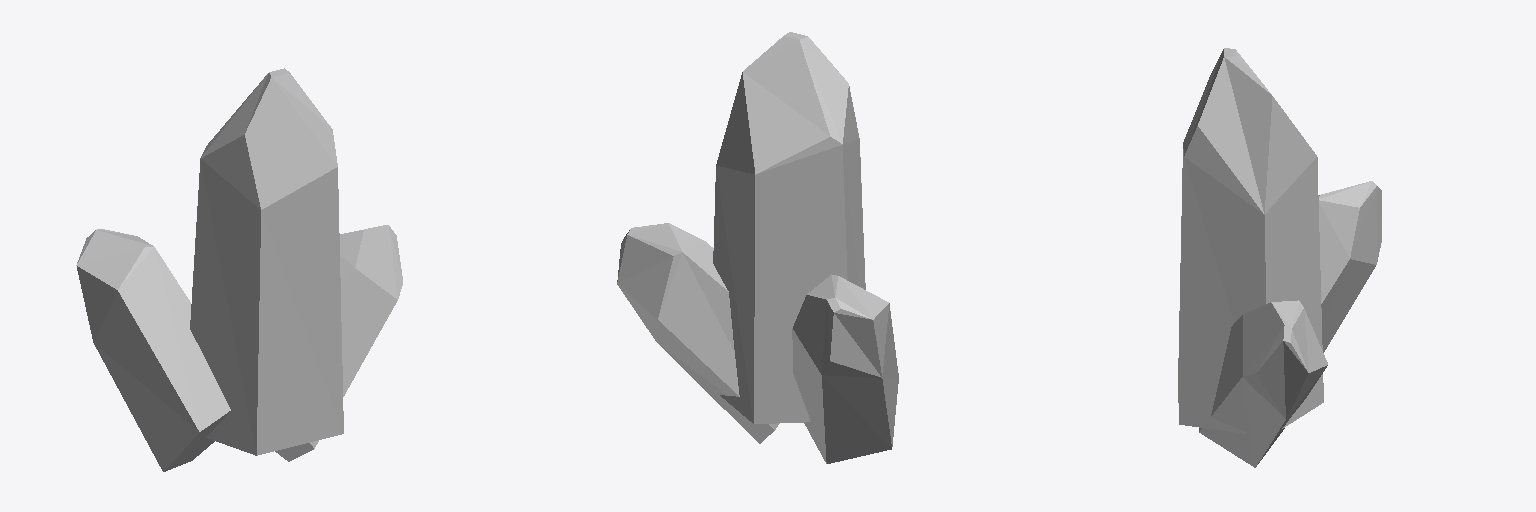
The model's file is tree003.obj.
3 views of the same model, side by side, from view 1: azimuth 30°, elevation 25°; view 2: azimuth 150°, elevation 25°; view 3: azimuth 270°, elevation 25° (orthographic).
Parts seen in each view (by area): view 1: Cylinder001; view 2: Cylinder001; view 3: Cylinder001.
Part boxes in pixels (bbox=[...]): Cylinder001: bbox=[76, 68, 402, 471]; Cylinder001: bbox=[617, 32, 898, 463]; Cylinder001: bbox=[1178, 48, 1381, 467].
Size of the model in its own units: 40.56 by 55.05 by 25.16.